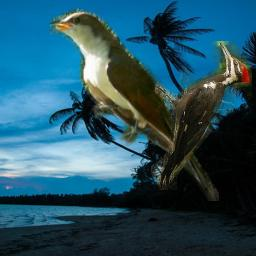Cuckoo: (50, 7, 219, 201)
Woodpecker: (151, 41, 252, 190)
